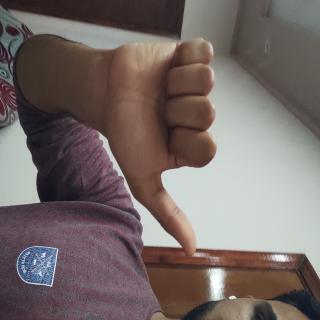DAD: (20, 133, 199, 304)
